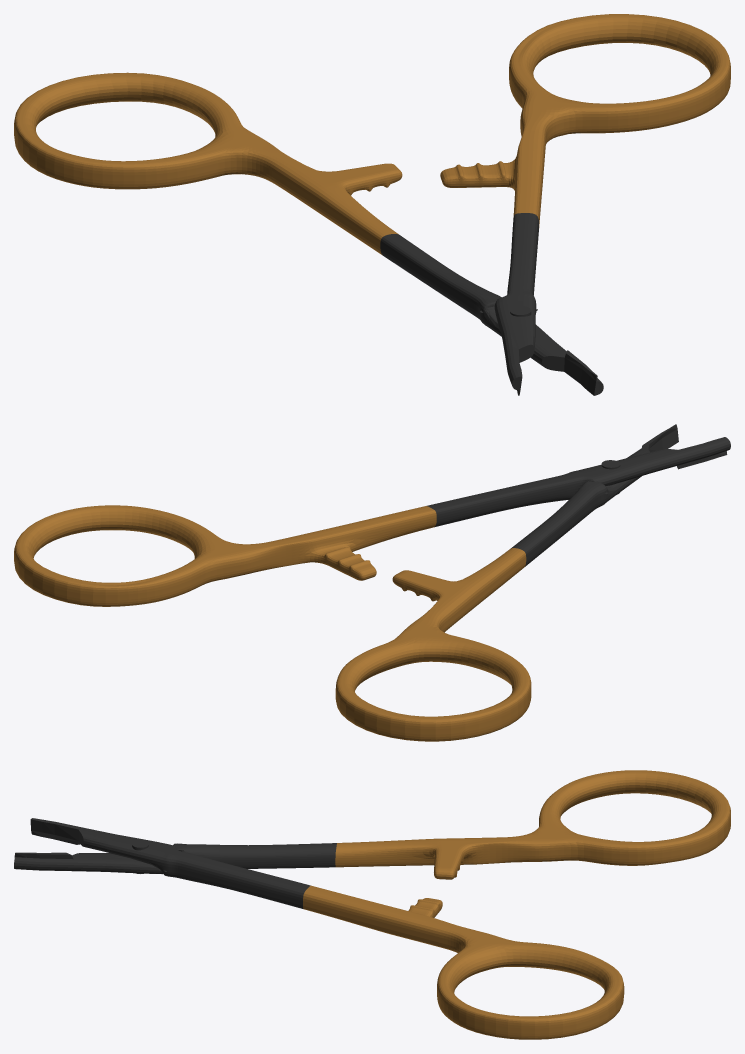
Rendered from Mayo Hegar Needle Driver.fbx.
3 renders of one model, top to bottom at view 1: azimuth 30°, elevation 25°; view 2: azimuth 150°, elevation 25°; view 3: azimuth 270°, elevation 25°, orthographic. The views are drawn at different scales.
Visible parts, largest first — view 1: Object; view 2: Object; view 3: Object.
Boxes of the visible parts, x1,y1,x2,y2 form: Object: (14,14,730,395); Object: (14,424,730,741); Object: (14,770,730,1039).
Bounding box in the file's own units: 61.61 × 3 × 74.
